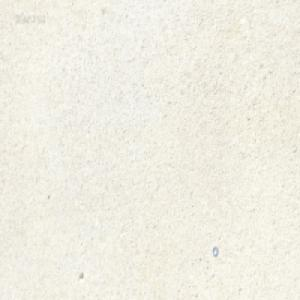Washer: (212, 245, 218, 256)
